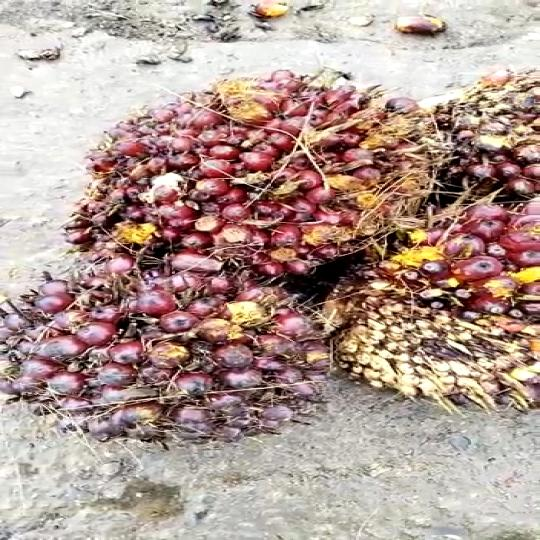masak: (56, 68, 454, 274), (0, 268, 350, 433), (329, 188, 540, 421)
